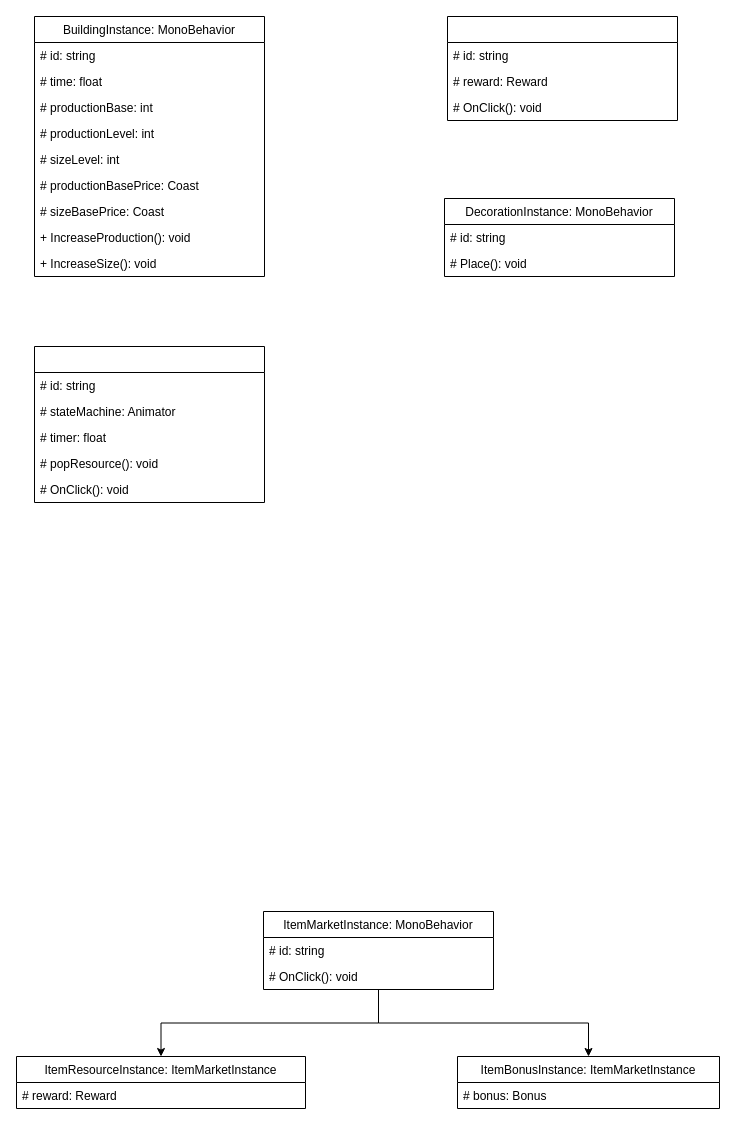
Image size: 736x1125. Some labels were removed from this diagram. The box of each missing label's shape, as (x1, y1, x2, y2) in pixels:
GiftInstance: MonoBehavior: (446, 16, 678, 120)
PopulationInstance: MonoBehavior: (34, 346, 264, 502)
